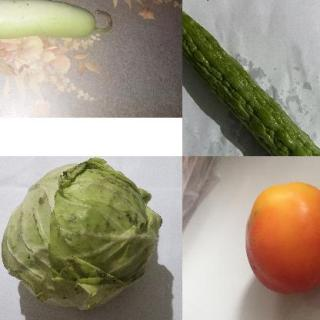Tomat: (240, 175, 320, 296)
